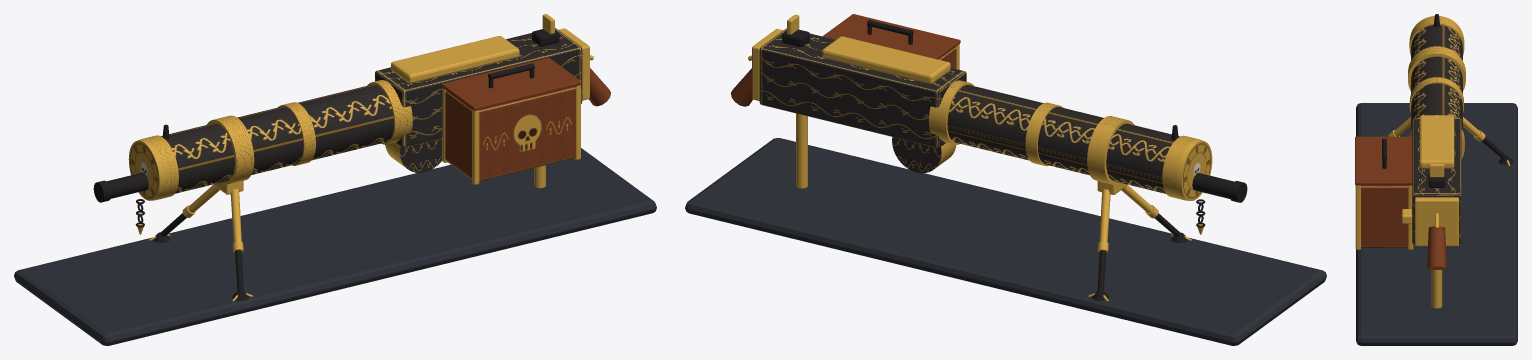
File: m1917_figure.glb
3 views of the same model, side by side, from view 1: azimuth 30°, elevation 25°; view 2: azimuth 150°, elevation 25°; view 3: azimuth 270°, elevation 25° (orthographic). The views are drawn at different scales.
Visible parts, largest first — view 1: m1917_figure; view 2: m1917_figure; view 3: m1917_figure.
Part boxes in pixels (<box>): m1917_figure: <box>14,14,656,345</box>; m1917_figure: <box>685,14,1326,345</box>; m1917_figure: <box>1355,14,1517,345</box>.
Size of the model in its own units: 0.19 by 0.0585 by 0.0553.
3 materials, 2 textured.
